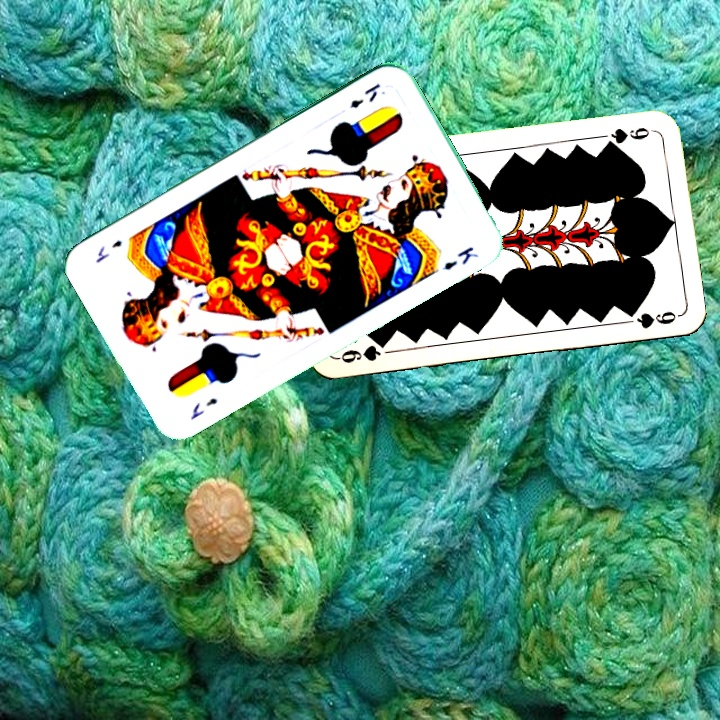EK: (346, 79, 384, 111), (186, 393, 220, 422)
G9: (333, 336, 391, 366), (598, 123, 657, 150)
